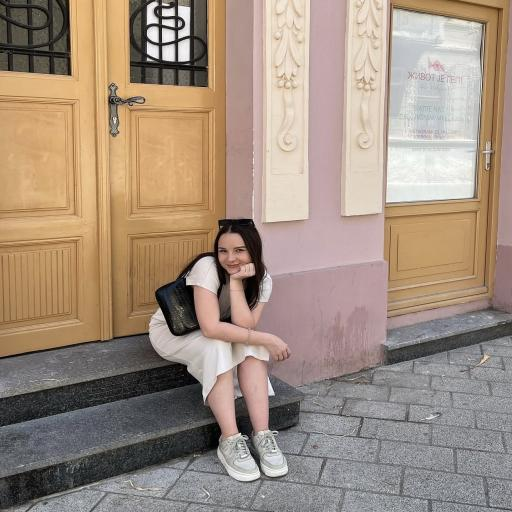marija: (216, 235, 254, 277)
